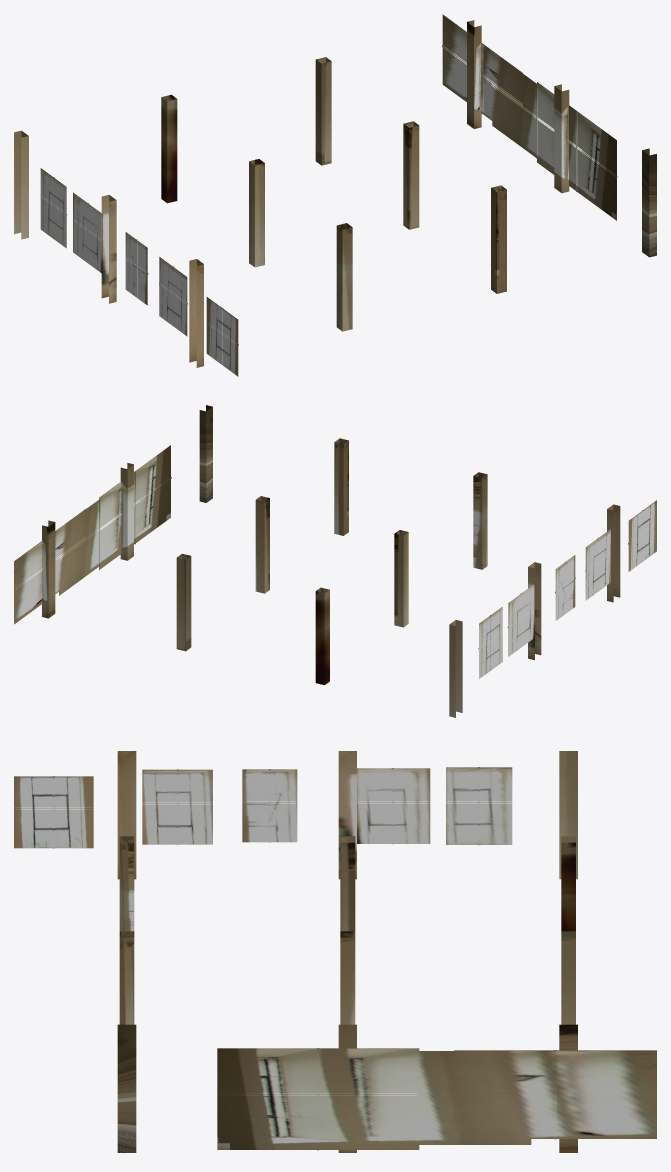
The model's file is loft-columns.glb.
3 renders of one model, top to bottom at view 1: azimuth 30°, elevation 25°; view 2: azimuth 150°, elevation 25°; view 3: azimuth 270°, elevation 25°, orthographic. The views are drawn at different scales.
Parts seen in each view (by area): view 1: columns, windows, frames; view 2: columns, windows, frames; view 3: windows, columns, frames.
Part boxes in pixels (x1,y1,x2,y2): columns: (14,20,656,367); windows: (40,14,616,376); frames: (40,43,617,365); columns: (42,405,620,717); windows: (14,445,656,678); frames: (14,471,655,670); windows: (14,767,656,1149); columns: (117,751,577,1152); frames: (14,767,556,1150).
Size of the model in its own units: 18.2 by 3.85 by 17.47.
1 material, 1 textured.
